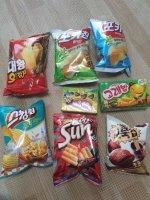snack: (0, 99, 55, 180), (52, 112, 103, 188), (3, 32, 52, 95), (49, 28, 100, 86), (104, 114, 150, 177), (89, 18, 132, 77)
